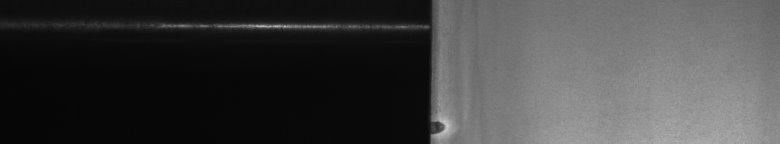hb: (440, 109, 467, 136)
